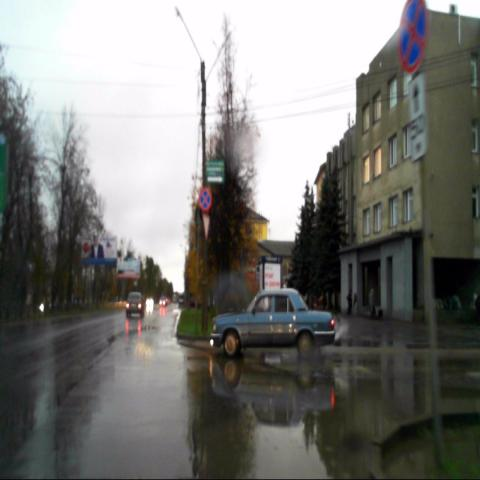3_27: (397, 0, 428, 73), (198, 187, 212, 212)
8_2_2: (407, 74, 427, 161)
